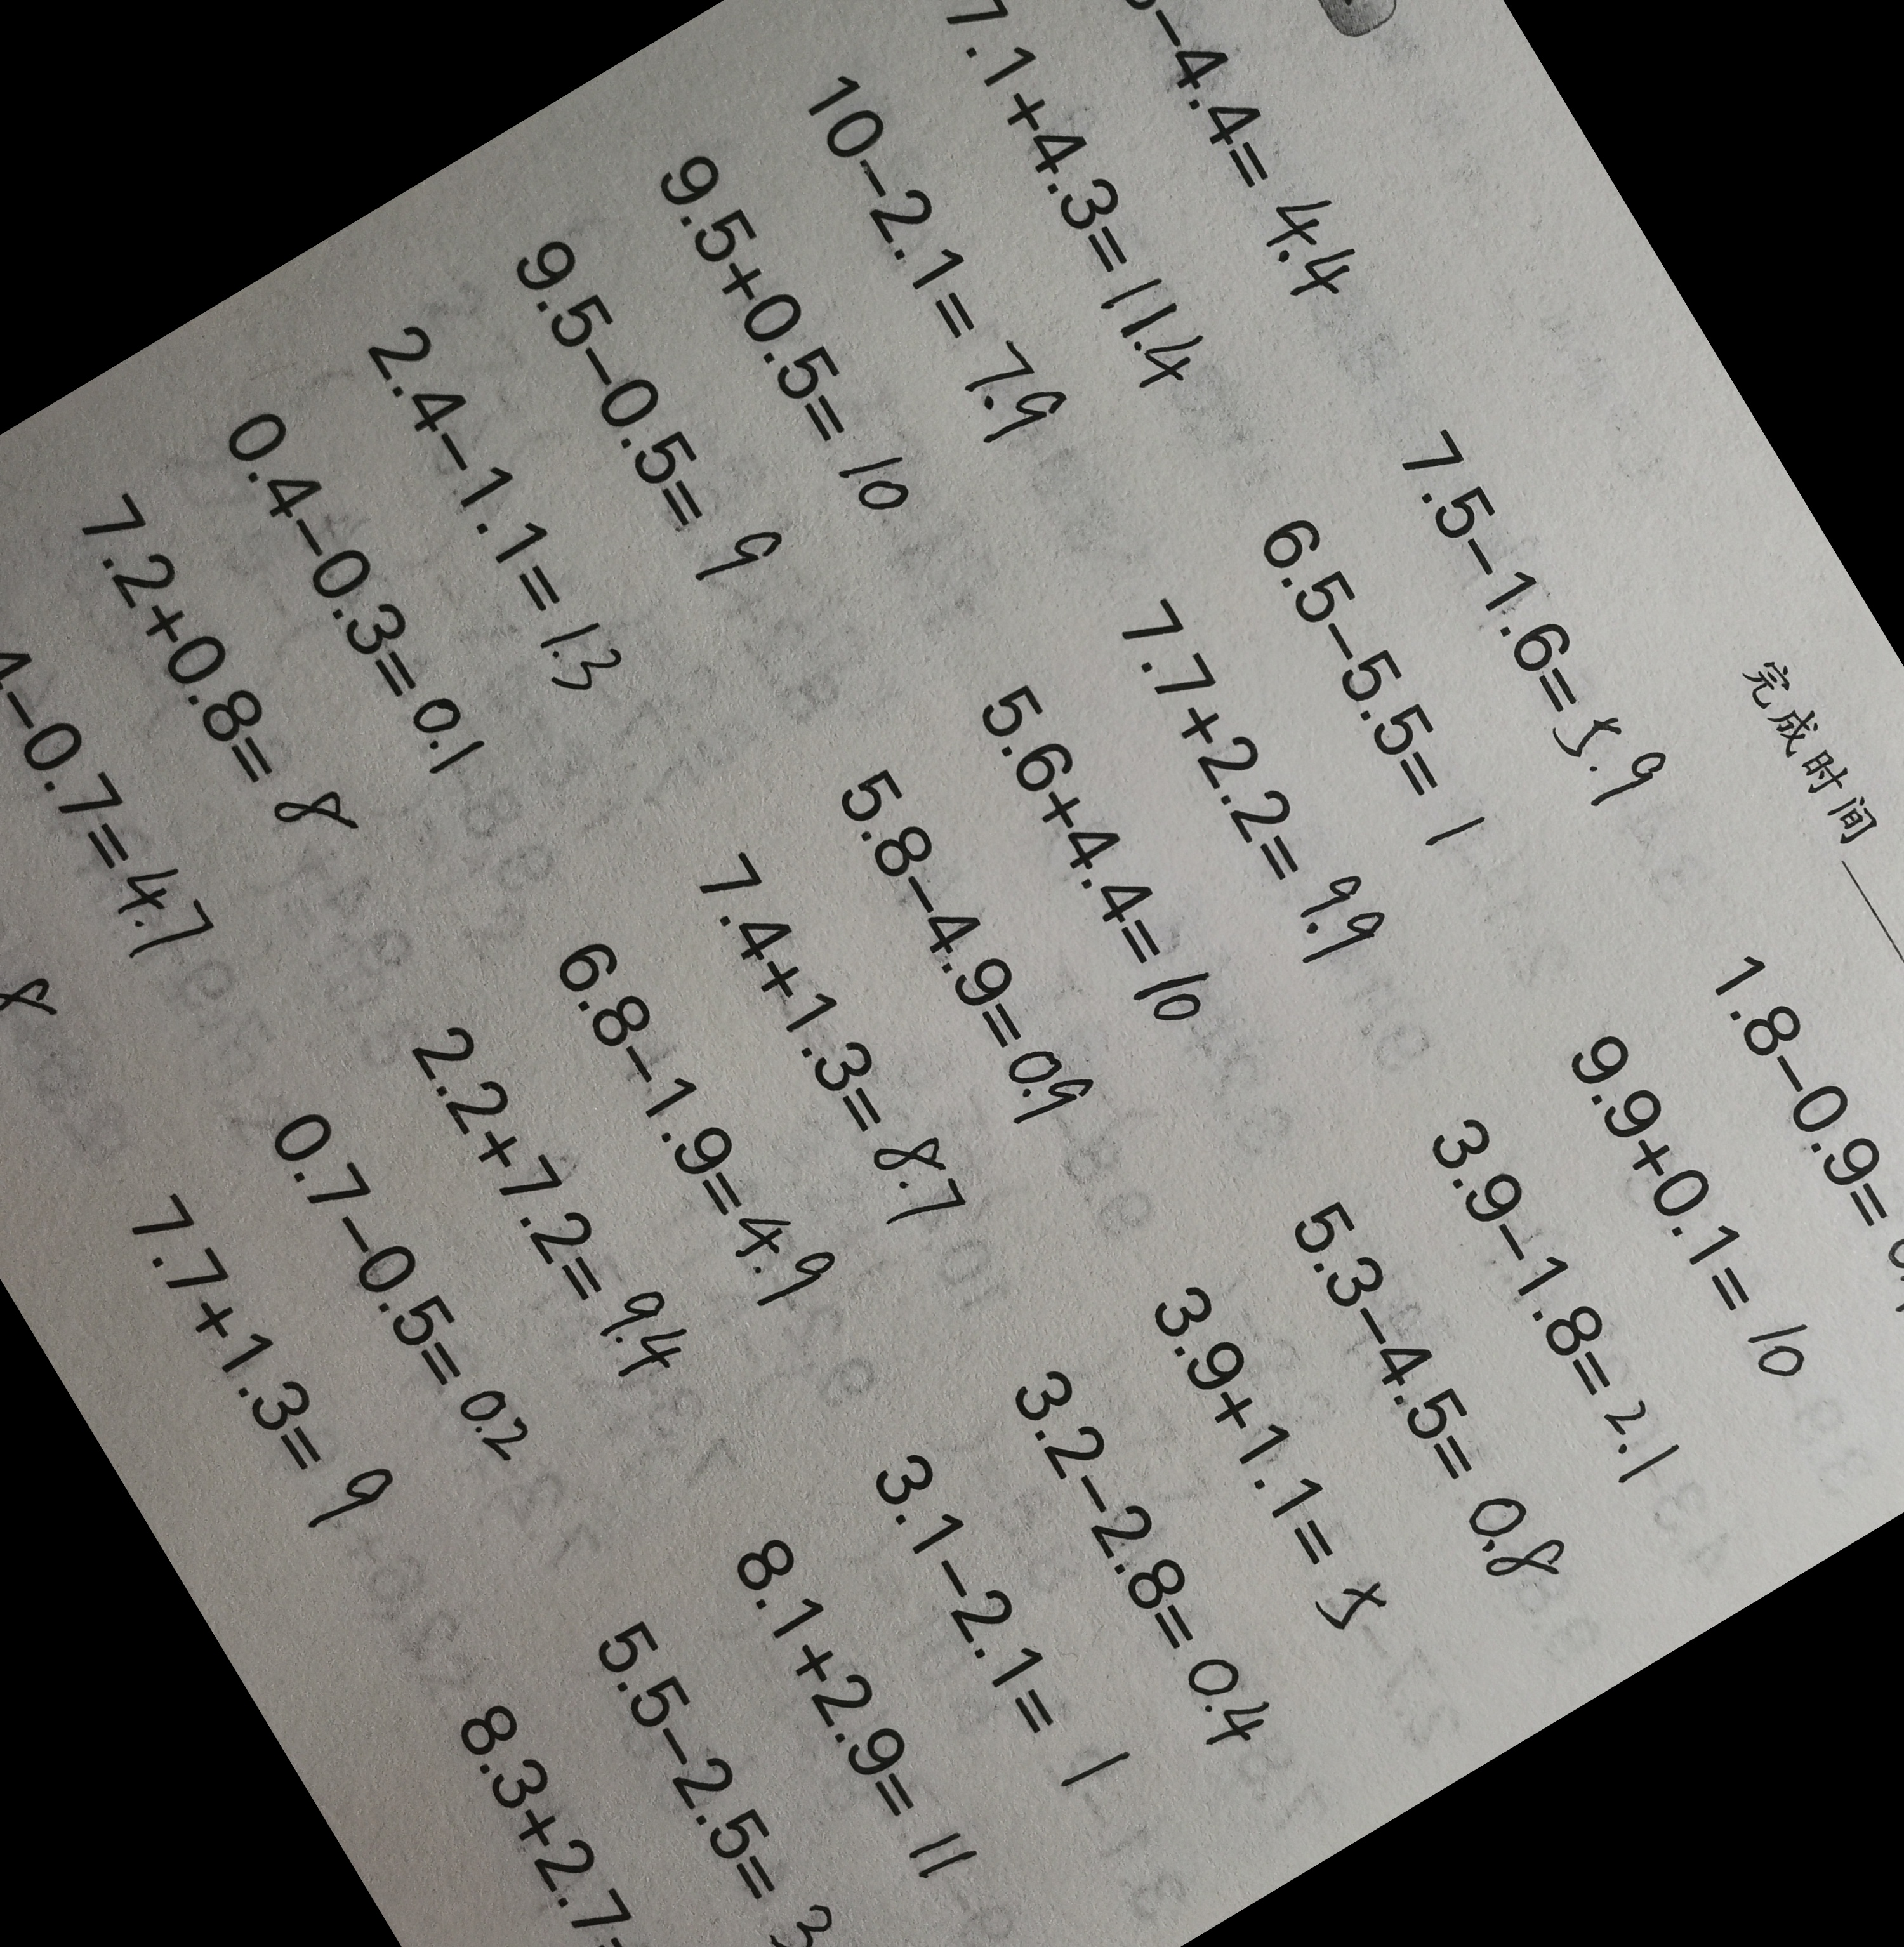equation: (800, 59, 1067, 460), (1301, 1187, 1564, 1591), (704, 844, 968, 1243), (561, 924, 821, 1326), (668, 148, 928, 546), (275, 1082, 532, 1480), (1440, 1105, 1697, 1501), (1018, 1354, 1273, 1752), (950, 0, 1214, 380), (370, 315, 624, 706), (1580, 1016, 1833, 1407), (1409, 420, 1663, 807), (1126, 593, 1384, 973), (138, 1177, 396, 1557), (91, 478, 342, 866), (434, 1014, 687, 1391), (528, 227, 781, 596), (235, 397, 481, 776), (884, 1436, 1125, 1802), (1158, 1269, 1395, 1633), (607, 1604, 858, 1947), (1268, 500, 1505, 863), (982, 675, 1219, 1035), (842, 758, 1081, 1116), (738, 1516, 975, 1876), (1093, 0, 1357, 307), (0, 573, 199, 973), (1728, 941, 1904, 1318), (455, 1691, 699, 1947), (0, 666, 42, 1048)
